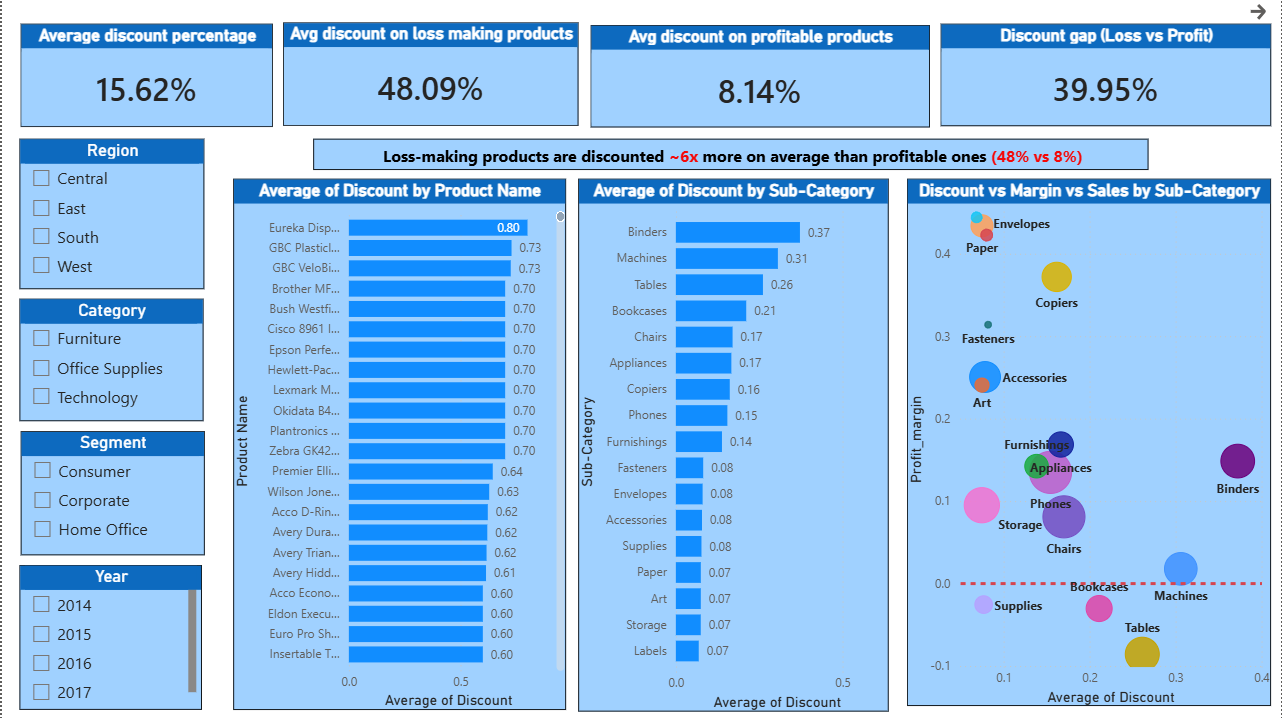

The dashboard page shown, as its layout file describes it:
{"tool":"powerbi","page":{"name":"Page 3","canvas":[1280,720],"ordinal":2},"visuals":[{"type":"cardVisual","title":"Average discount percentage","fields":{"Data":["Avg(Superstore_cleaned_2.Discount)"]},"box":[18.9,23.3,252.2,103.3],"z":0},{"type":"slicer","title":"Region","fields":{"Values":["Superstore_cleaned_2.Region"]},"box":[17.5,138.8,185,150],"z":1000},{"type":"slicer","title":"Segment","fields":{"Values":["Superstore_cleaned_2.Segment"]},"box":[18.8,431.2,183.8,123.8],"z":2000},{"type":"slicer","title":"Category","fields":{"Values":["Superstore_cleaned_2.Category"]},"box":[17.5,298.8,183.8,122.5],"z":3000},{"type":"slicer","title":"Year","fields":{"Values":["Superstore_cleaned_2.Year"]},"box":[17.5,565,182.5,145],"z":4000},{"type":"textbox","box":[825,505,102.5,60],"z":5000},{"type":"actionButton","box":[1243.8,0,25,23.8],"z":6000},{"type":"cardVisual","title":"Avg discount on profitable products","fields":{"Data":["Superstore_cleaned_2.Avg discount on profitable products"]},"box":[588.9,24.4,338.9,102.2],"z":7000},{"type":"barChart","fields":{"Category":["Superstore_cleaned_2.Product Name"],"Y":["Avg(Superstore_cleaned_2.Discount)"]},"box":[231.2,178.8,332.5,531.2],"z":8000},{"type":"barChart","fields":{"Category":["Superstore_cleaned_2.Sub-Category"],"Y":["Avg(Superstore_cleaned_2.Discount)"]},"box":[576.2,178.8,310,532.5],"z":9000},{"type":"scatterChart","title":"Discount vs Margin vs Sales by Sub-Category","fields":{"X":["Avg(Superstore_cleaned_2.Discount)"],"Y":["Superstore_cleaned_2.Profit_margin"],"Series":["Superstore_cleaned_2.Sub-Category"],"Size":["Superstore_cleaned_2.Total_sales"]},"box":[905,178.8,363.8,527.5],"z":10000},{"type":"cardVisual","title":"Avg discount on loss making products","fields":{"Data":["Superstore_cleaned_2.Avg discount on loss making products"]},"box":[281.1,22.2,295.6,103.3],"z":11000},{"type":"cardVisual","title":"Discount gap (Loss vs Profit)","fields":{"Data":["Superstore_cleaned_2.Discount Gap"]},"box":[938.9,23.3,330,102.2],"z":12000},{"type":"textbox","box":[311.2,138.8,835,31.2],"z":13000}]}

Visuals, with their boxes in screenshot pixels (x1, y1, x2, y2), scaled from the page's 1280x720 canvas onto the 1282x718 screenshot:
"Average discount percentage" cardVisual: x1=19, y1=23, x2=272, y2=126
"Region" slicer: x1=18, y1=138, x2=203, y2=288
"Segment" slicer: x1=19, y1=430, x2=203, y2=553
"Category" slicer: x1=18, y1=298, x2=202, y2=420
"Year" slicer: x1=18, y1=563, x2=200, y2=708
textbox: x1=826, y1=504, x2=929, y2=563
actionButton: x1=1246, y1=0, x2=1271, y2=24
"Avg discount on profitable products" cardVisual: x1=590, y1=24, x2=929, y2=126
barChart - Superstore_cleaned_2.Product Name x Avg(Superstore_cleaned_2.Discount): x1=232, y1=178, x2=565, y2=708
barChart - Superstore_cleaned_2.Sub-Category x Avg(Superstore_cleaned_2.Discount): x1=577, y1=178, x2=888, y2=709
"Discount vs Margin vs Sales by Sub-Category" scatterChart: x1=906, y1=178, x2=1271, y2=704
"Avg discount on loss making products" cardVisual: x1=282, y1=22, x2=578, y2=125
"Discount gap (Loss vs Profit)" cardVisual: x1=940, y1=23, x2=1271, y2=125
textbox: x1=312, y1=138, x2=1148, y2=170
